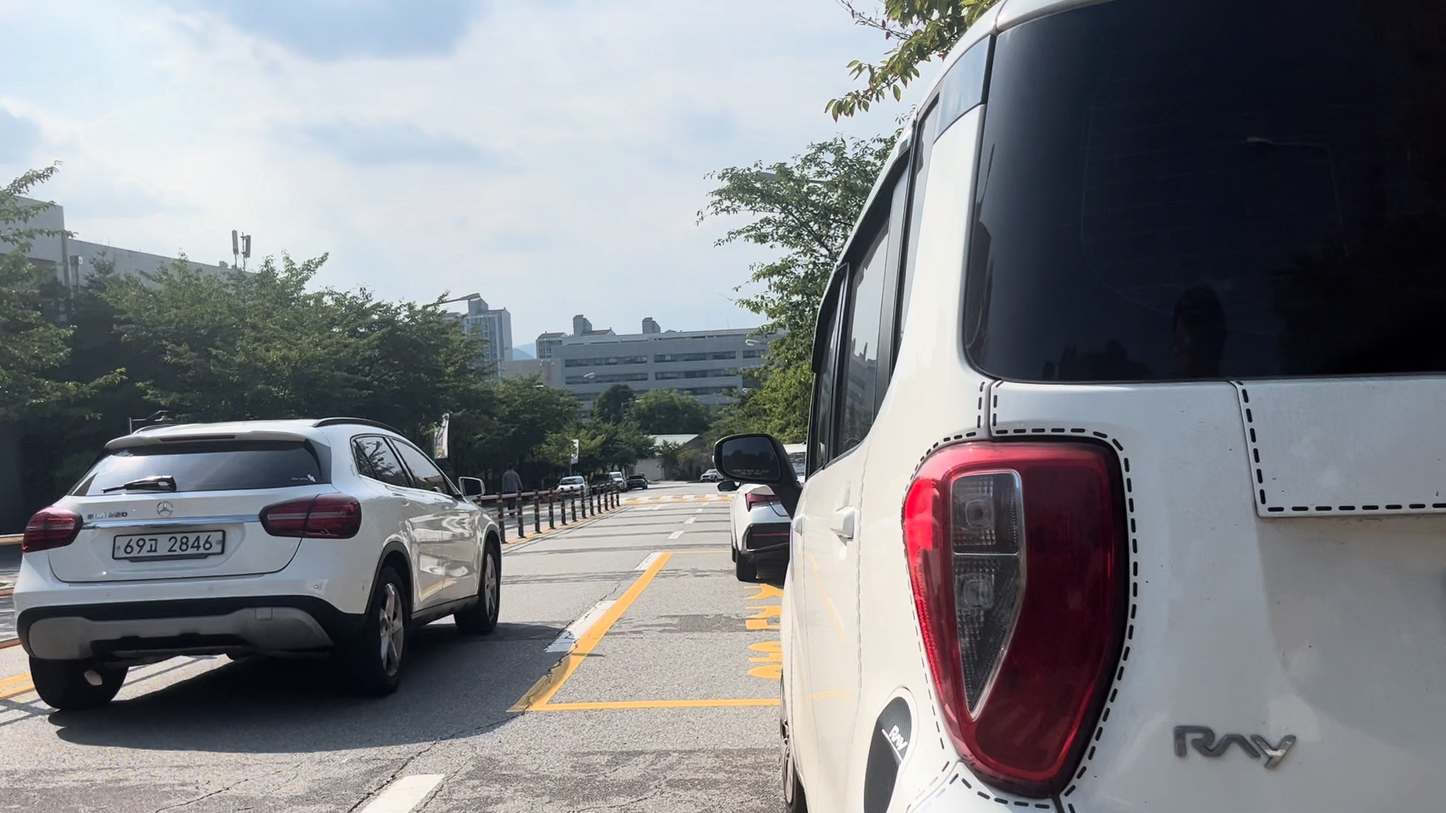license_plate: (113, 530, 224, 559)
side_mirror: (715, 437, 787, 483)
tail_light: (903, 442, 1127, 796), (259, 493, 360, 538), (22, 507, 83, 552), (745, 523, 790, 549), (745, 490, 778, 510)
